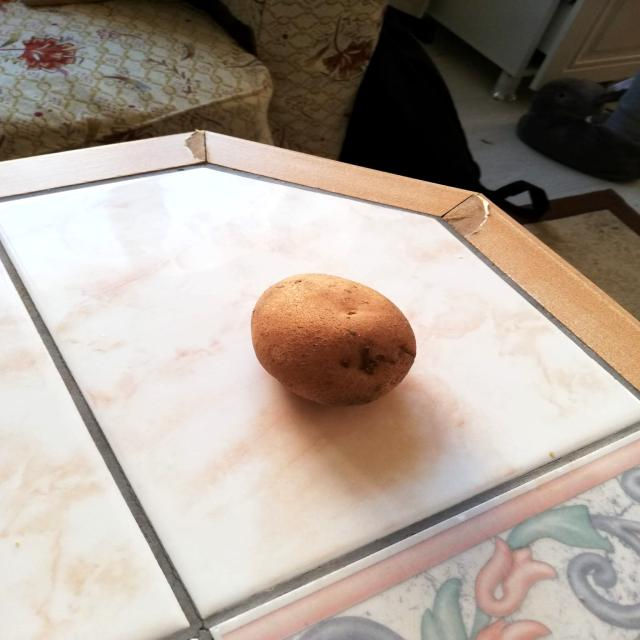potato: (246, 266, 424, 410)
